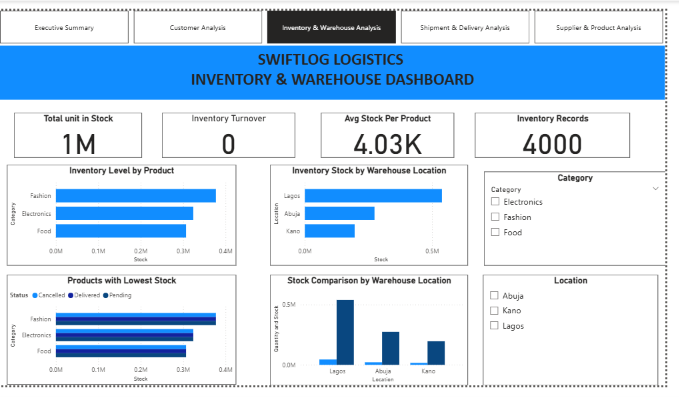

The dashboard page shown, as its layout file describes it:
{"tool":"powerbi","page":{"name":"Inventory & Warehouse Analysis","canvas":[1280,720],"ordinal":2},"visuals":[{"type":"textbox","box":[0,67.3,1278.8,103.8],"z":0},{"type":"clusteredBarChart","title":"Inventory Level by Product","fields":{"Category":["SwiftLog_Products.Category"],"Y":["Sum(SwiftLog_Inventory.Stock)"]},"box":[13.5,296.2,440.4,194.2],"z":1},{"type":"clusteredBarChart","title":"Inventory Stock by Warehouse Location","fields":{"Category":["SwiftLog_Warehouses.Location"],"Y":["Sum(SwiftLog_Inventory.Stock)"]},"box":[519.2,296.2,380.8,194.2],"z":2},{"type":"clusteredBarChart","title":"Products with Lowest Stock","fields":{"Category":["SwiftLog_Products.Category"],"Y":["Sum(SwiftLog_Inventory.Stock)"],"Series":["SwiftLog_Orders.Status"]},"box":[13.5,507.7,440.4,211.5],"z":5},{"type":"clusteredColumnChart","title":"Stock Comparison by Warehouse Location","fields":{"Category":["SwiftLog_Warehouses.Location"],"Y":["Sum(SwiftLog_Order_Items.Quantity)","Sum(SwiftLog_Inventory.Stock)"]},"box":[519.2,507.7,380.8,213.5],"z":6},{"type":"slicer","title":"Category","fields":{"Values":["SwiftLog_Products.Category"]},"box":[930.8,309.6,350,180.8],"z":7},{"type":"slicer","title":"Location","fields":{"Values":["SwiftLog_Warehouses.Location"]},"box":[928.8,507.7,336.5,213.5],"z":8},{"type":"card","title":"Total unit in Stock","fields":{"Values":["SwiftLog_Customers.Total Units in Stock"]},"box":[26.9,196.2,246.2,86.5],"z":9},{"type":"card","title":"Inventory Turnover","fields":{"Values":["SwiftLog_Customers.Inventory Turnover"]},"box":[311.5,196.2,255.8,86.5],"z":10},{"type":"card","title":"Avg Stock Per Product","fields":{"Values":["SwiftLog_Customers.Average Stock per Product"]},"box":[617.3,196.2,255.8,86.5],"z":11},{"type":"card","title":"Inventory Records","fields":{"Values":["SwiftLog_Customers.Inventory Records"]},"box":[913.5,196.2,298.1,86.5],"z":12},{"type":"pageNavigator","box":[0,0,1278.8,63.5],"z":13}]}

Visuals, with their boxes in screenshot pixels (x1, y1, x2, y2):
textbox: {"left": 0, "top": 44, "right": 665, "bottom": 98}
"Inventory Level by Product" clusteredBarChart: {"left": 4, "top": 164, "right": 234, "bottom": 265}
"Inventory Stock by Warehouse Location" clusteredBarChart: {"left": 268, "top": 164, "right": 467, "bottom": 265}
"Products with Lowest Stock" clusteredBarChart: {"left": 4, "top": 274, "right": 234, "bottom": 385}
"Stock Comparison by Warehouse Location" clusteredColumnChart: {"left": 268, "top": 274, "right": 467, "bottom": 386}
"Category" slicer: {"left": 483, "top": 171, "right": 666, "bottom": 265}
"Location" slicer: {"left": 482, "top": 274, "right": 658, "bottom": 386}
"Total unit in Stock" card: {"left": 11, "top": 111, "right": 139, "bottom": 157}
"Inventory Turnover" card: {"left": 159, "top": 111, "right": 293, "bottom": 157}
"Avg Stock Per Product" card: {"left": 319, "top": 111, "right": 453, "bottom": 157}
"Inventory Records" card: {"left": 474, "top": 111, "right": 630, "bottom": 157}
pageNavigator: {"left": 0, "top": 9, "right": 665, "bottom": 42}
